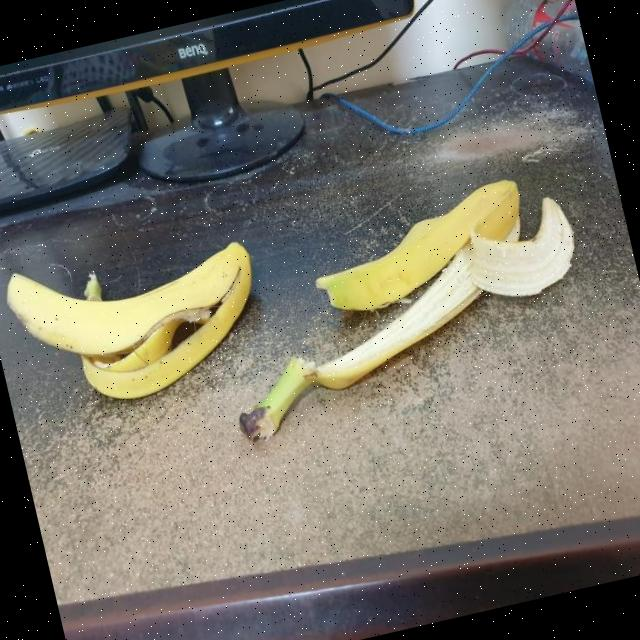banana-peel: (200, 172, 602, 444), (0, 217, 275, 422), (300, 175, 537, 322)
